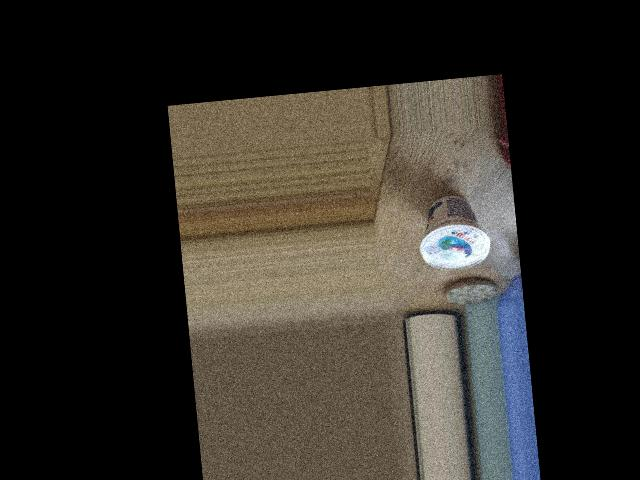cotage: (411, 182, 480, 275)
